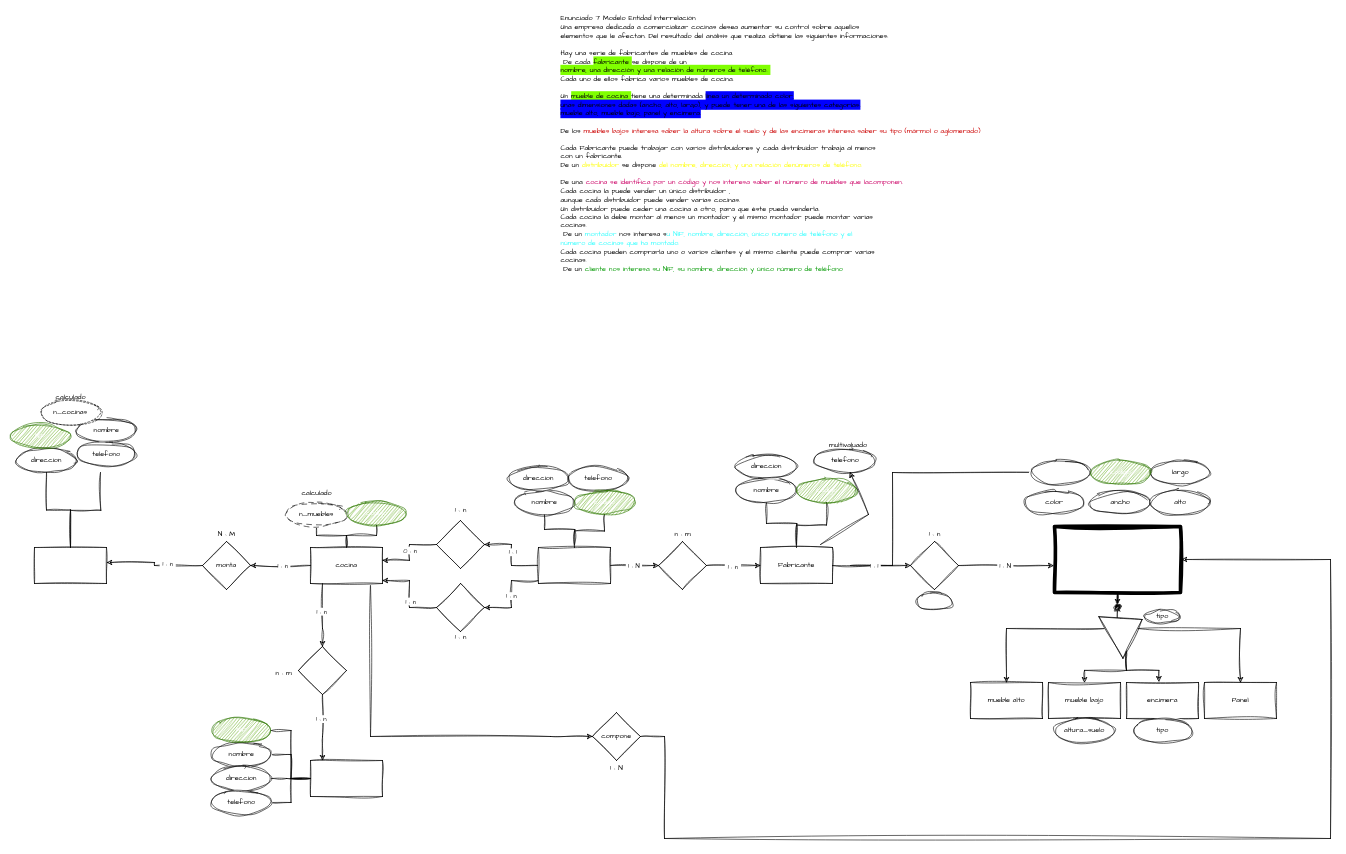
This 1346x854 diagram has some shape labels left out. The shapes that lost their labels are listed below. From the top down, each one's box as (x1, y1, x2, y2) in pixels, then its label:
(1030, 460, 1090, 484): linea
(436, 520, 484, 568): cede
(1052, 524, 1182, 594): mueble
(34, 547, 106, 584): montador
(538, 547, 610, 584): distribuidor
(658, 541, 706, 590): trabaja
(910, 541, 958, 590): produce
(436, 583, 484, 632): vende
(916, 592, 952, 610): id
(1098, 598, 1154, 658): es un
(298, 646, 346, 694): compra
(310, 760, 382, 796): cliente
